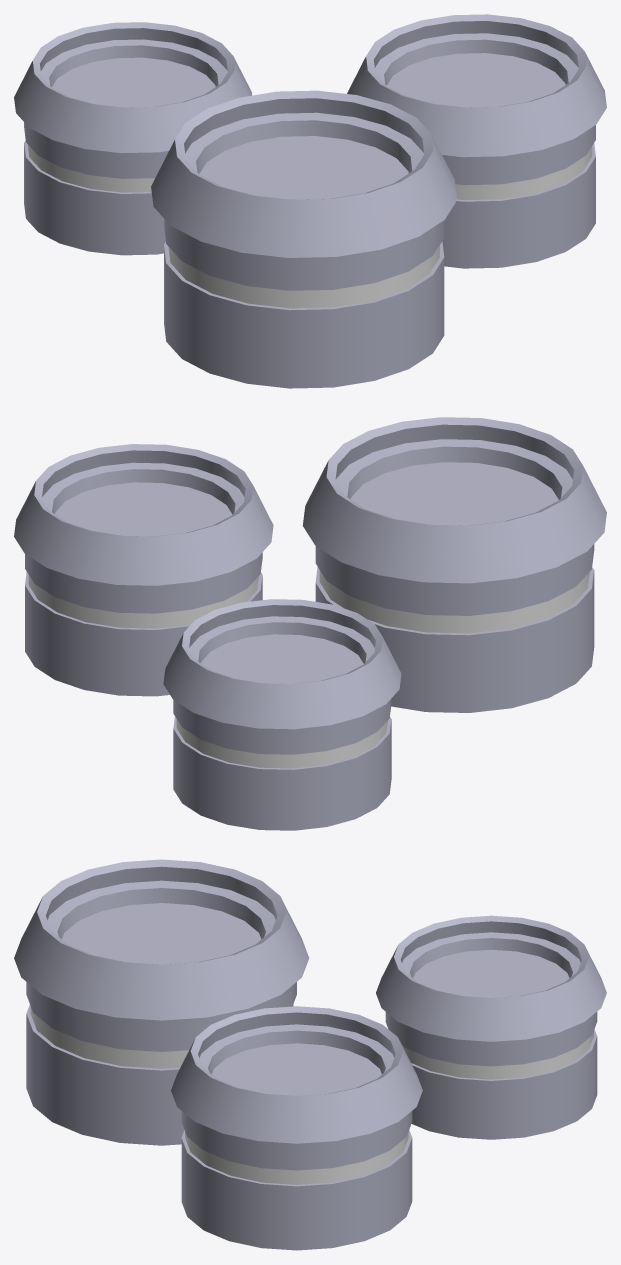
Rendered from Pylon_3.fbx.
The picture shows the model from 3 angles, top to bottom: view 1: azimuth 30°, elevation 25°; view 2: azimuth 150°, elevation 25°; view 3: azimuth 270°, elevation 25°; orthographic projection. The views are drawn at different scales.
Parts seen in each view (by area): view 1: Pylon_3; view 2: Pylon_3; view 3: Pylon_3.
Boxes of the visible parts, <box> form: Pylon_3: <box>14,14,606,388</box>; Pylon_3: <box>14,417,606,830</box>; Pylon_3: <box>14,859,606,1250</box>.
Bounding box in the file's own units: 4.01 × 1.49 × 4.39.
